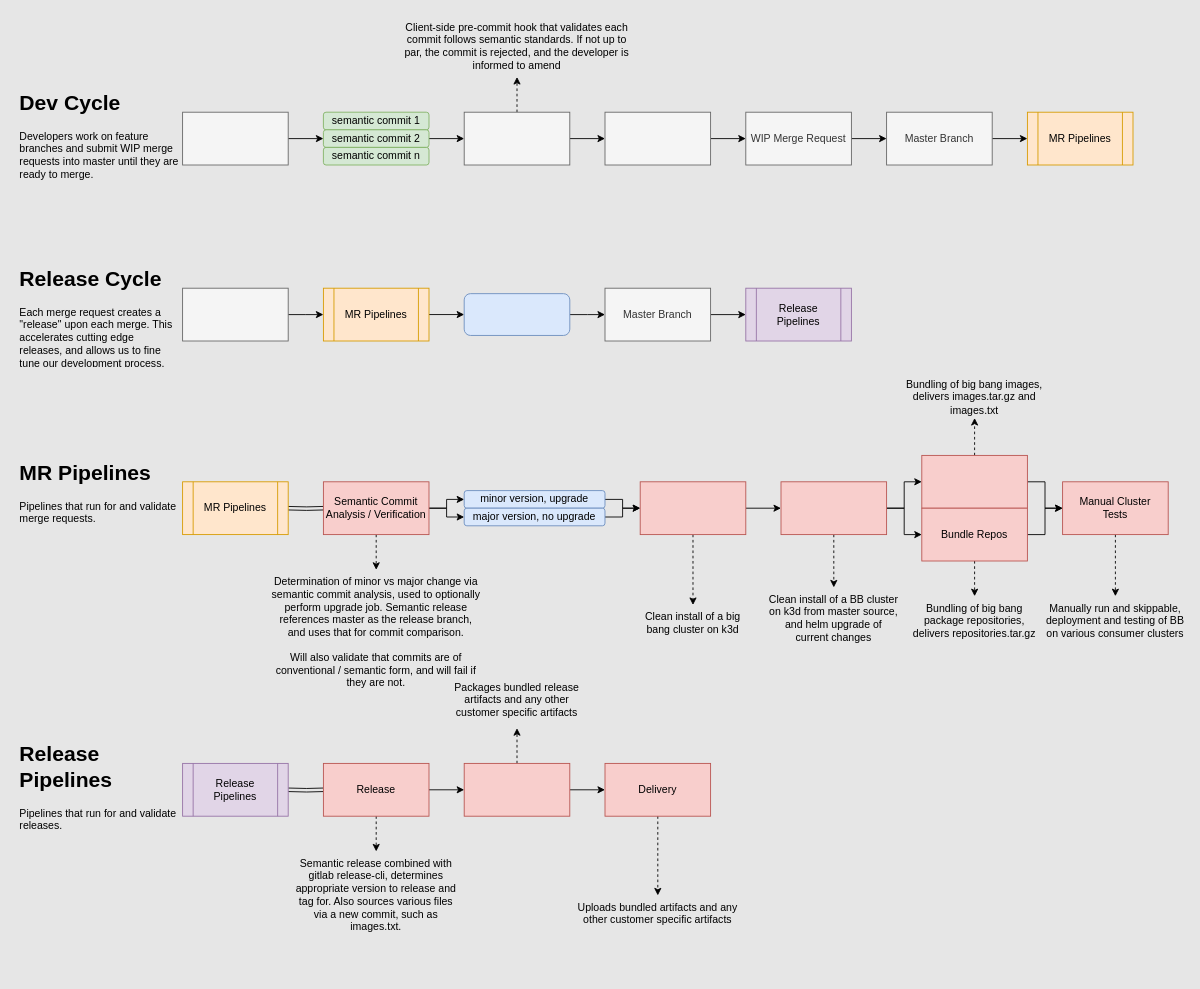
Image size: 1200x989. Some labels were removed from this diagram. Here are the shapes that lost their labels. From the top down, the box of each, then its label:
(182, 111, 288, 165): Developer
(463, 111, 570, 165): Client-Side Pre-Commit Hook
(604, 111, 711, 165): Feature Branch
(182, 287, 288, 341): Merge Request
(463, 293, 570, 335): Maintainer Modifications and Approval
(921, 455, 1027, 508): Bundle Images
(639, 481, 746, 535): Clean Install
(780, 481, 887, 535): Upgrade (Conditionally Skipped)
(463, 763, 570, 816): Package
